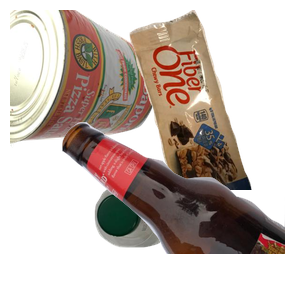glass: (60, 120, 300, 300)
metal: (10, 10, 159, 152)
plastic: (92, 176, 257, 300)
trash: (127, 10, 300, 190)
